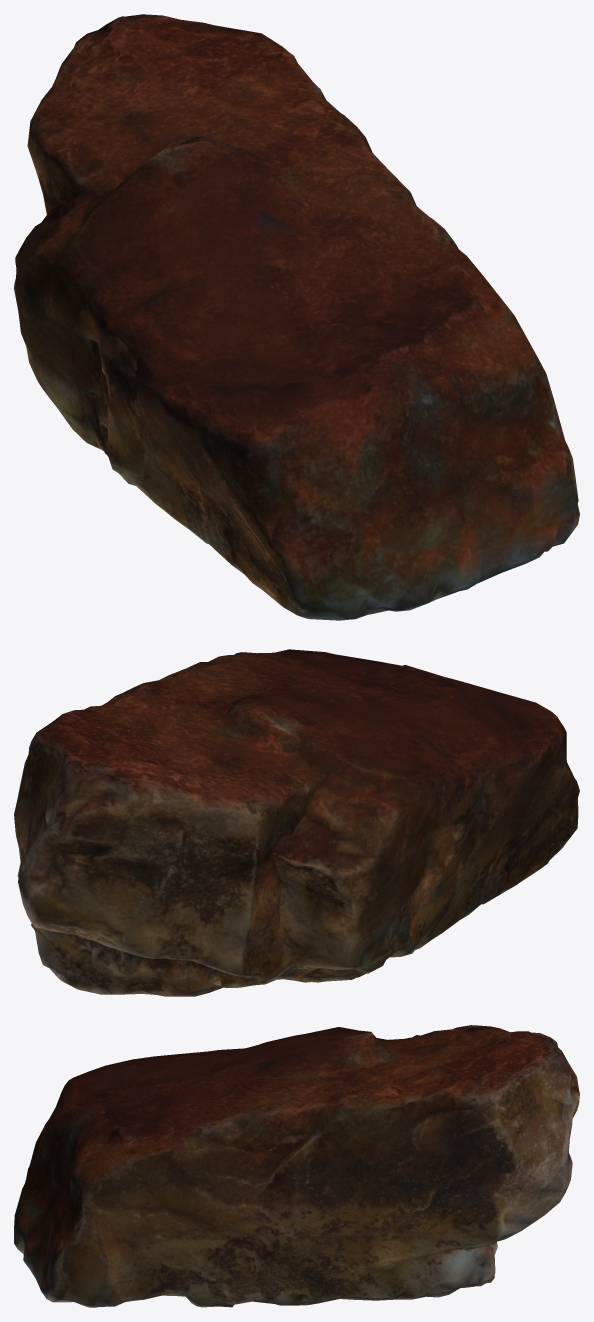
Rendered from rock_07_game.glb.
The picture shows the model from 3 angles, top to bottom: view 1: azimuth 30°, elevation 25°; view 2: azimuth 150°, elevation 25°; view 3: azimuth 270°, elevation 25°; orthographic projection. The views are drawn at different scales.
Parts seen in each view (by area): view 1: rock_07; view 2: rock_07; view 3: rock_07.
Part boxes in pixels (x1,y1,x2,y2): rock_07: [14, 14, 579, 620]; rock_07: [14, 649, 579, 996]; rock_07: [14, 1025, 579, 1307].
Size of the model in its own units: 0.1686 by 0.1437 by 0.3199.
1 material, 1 textured.
